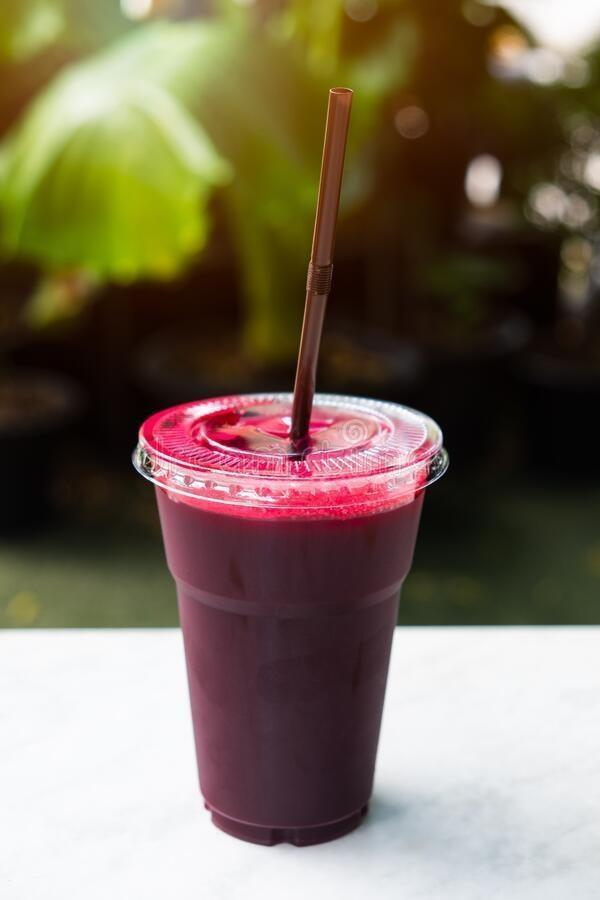cup-disposable: (130, 391, 448, 849)
